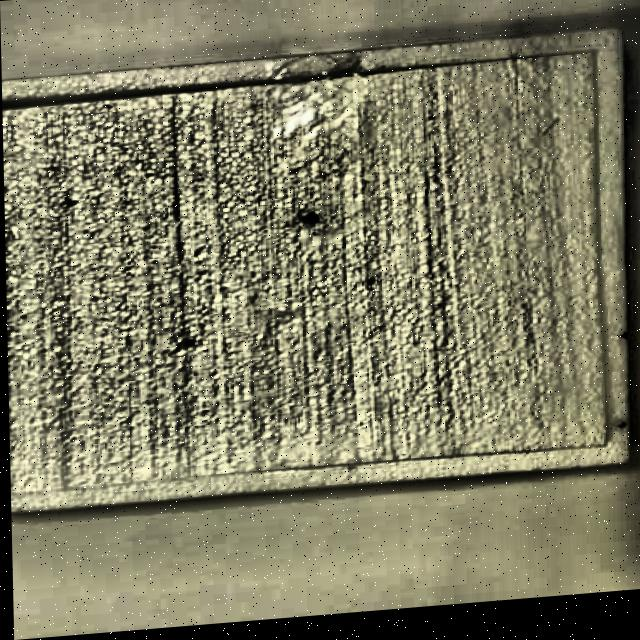plastic: (2, 26, 635, 516)
